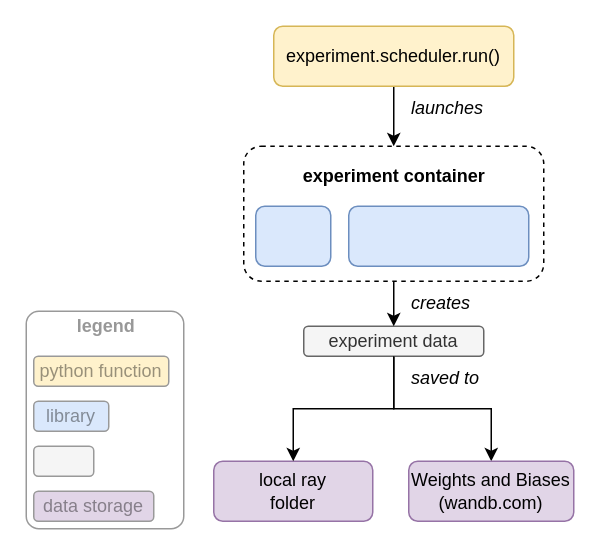
Image size: 600x555. Some labels were removed from this diagram. Here are the shapes that lost their labels. From the top down, the centre of each, then its label:
At (x=292, y=235): "ray.rllib".
At (x=438, y=235): "selected gym library".
At (x=63, y=460): "data".
